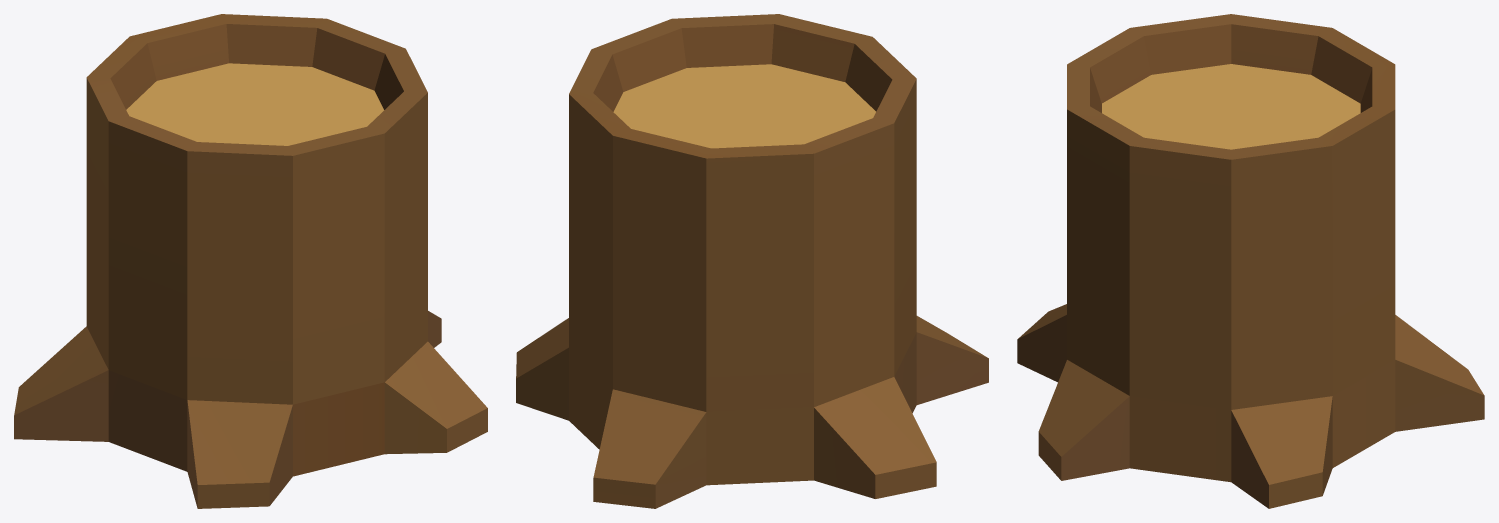
Rendered from goccay.fbx.
The picture shows the model from 3 angles, left to right: view 1: azimuth 30°, elevation 25°; view 2: azimuth 150°, elevation 25°; view 3: azimuth 270°, elevation 25°; orthographic projection.
Visible parts, largest first — view 1: goccay; view 2: goccay; view 3: goccay.
Boxes of the visible parts, box(x1,y1,x2,y2) form: goccay: box(14, 14, 487, 508); goccay: box(516, 14, 988, 508); goccay: box(1017, 14, 1484, 508).
Bounding box in the file's own units: 127 × 92.91 × 122.
